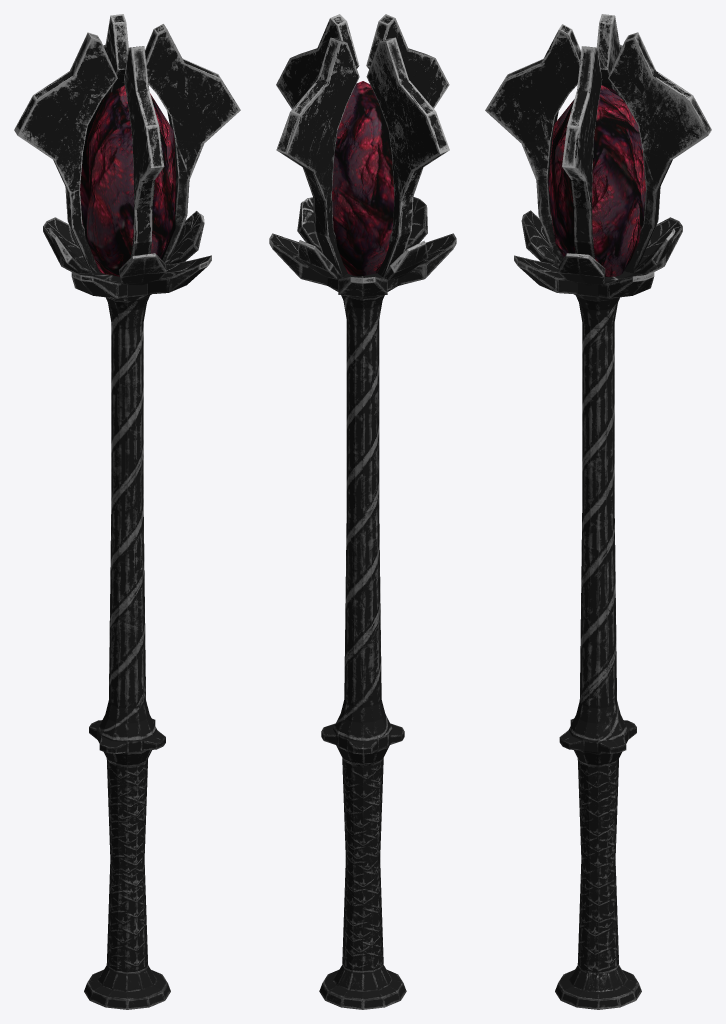
File: mace.fbx
3 views of the same model, side by side, from view 1: azimuth 30°, elevation 25°; view 2: azimuth 150°, elevation 25°; view 3: azimuth 270°, elevation 25° (orthographic).
Parts seen in each view (by area): view 1: mace_low, Icosphere; view 2: mace_low, Icosphere; view 3: mace_low, Icosphere.
Boxes of the visible parts, <box> form: mace_low: <box>14,14,240,1009</box>; Icosphere: <box>80,85,175,276</box>; mace_low: <box>269,14,456,1009</box>; Icosphere: <box>332,81,394,276</box>; mace_low: <box>485,14,711,1009</box>; Icosphere: <box>548,85,645,276</box>.
Size of the model in its own units: 322 by 1504 by 322.
